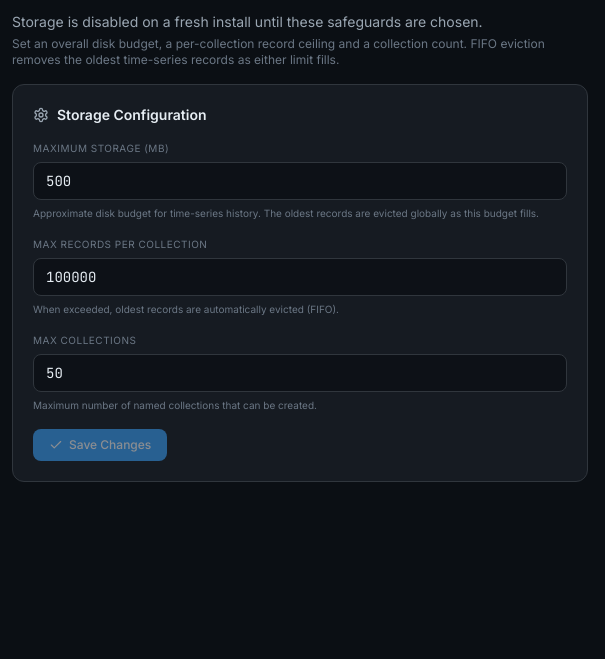
SettingsPanel › shows the confirmation dialog with a before/after diff
The image size is (605, 659).
Replace the text in the number field showing "500" below "Maximum Storage (MB)" with "800": coordinates (300, 181) [33, 162, 567, 200]
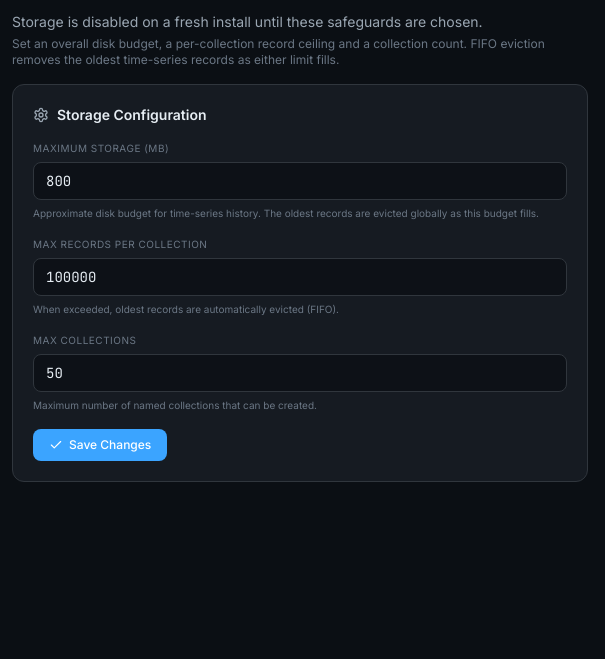
Click the button "Save Changes": coordinates (100, 445) [33, 429, 167, 461]
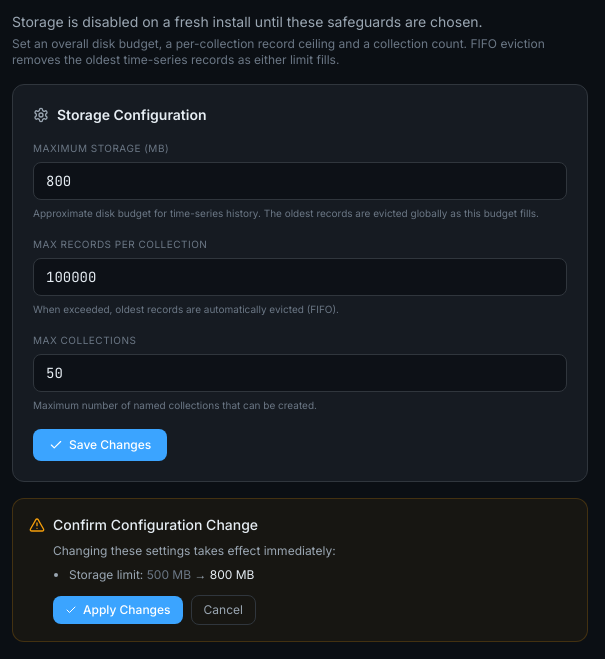
Expected: the text "Confirm Configuration Change" is shown, [53, 516, 258, 533]
Expected: the text "800 MB" is shown, [210, 567, 254, 582]
